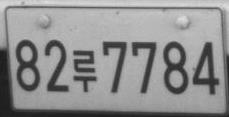2: (43, 37, 69, 92)
4: (191, 41, 220, 95)
7: (130, 40, 158, 95), (101, 40, 128, 92)
8: (161, 40, 189, 95), (14, 38, 40, 91)
루: (71, 49, 97, 93)
